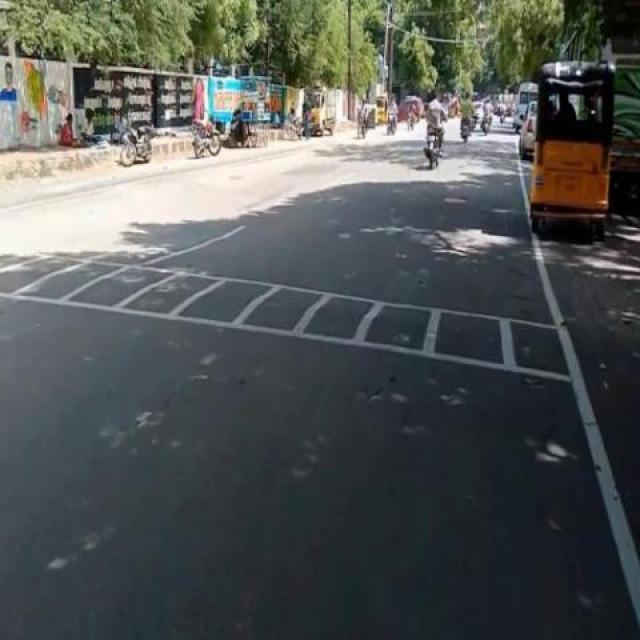Speed Bump: (1, 252, 572, 384)
